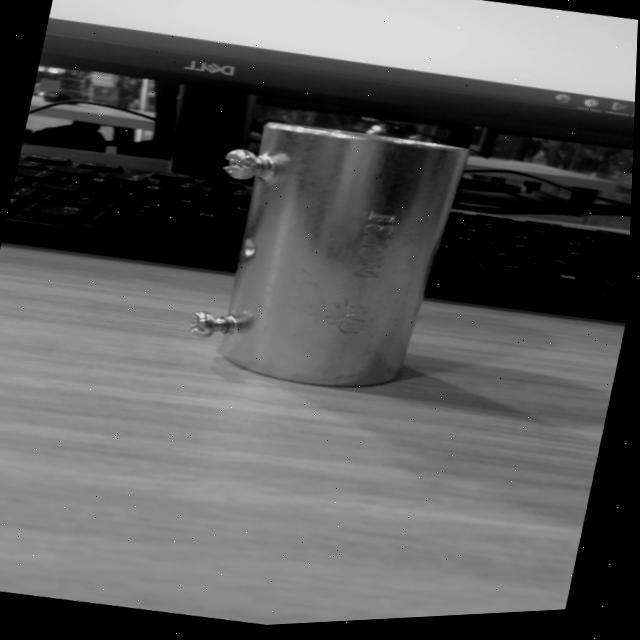Co_Lon: (199, 115, 468, 399)
